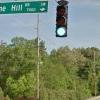Tree: (13, 34, 100, 99)
